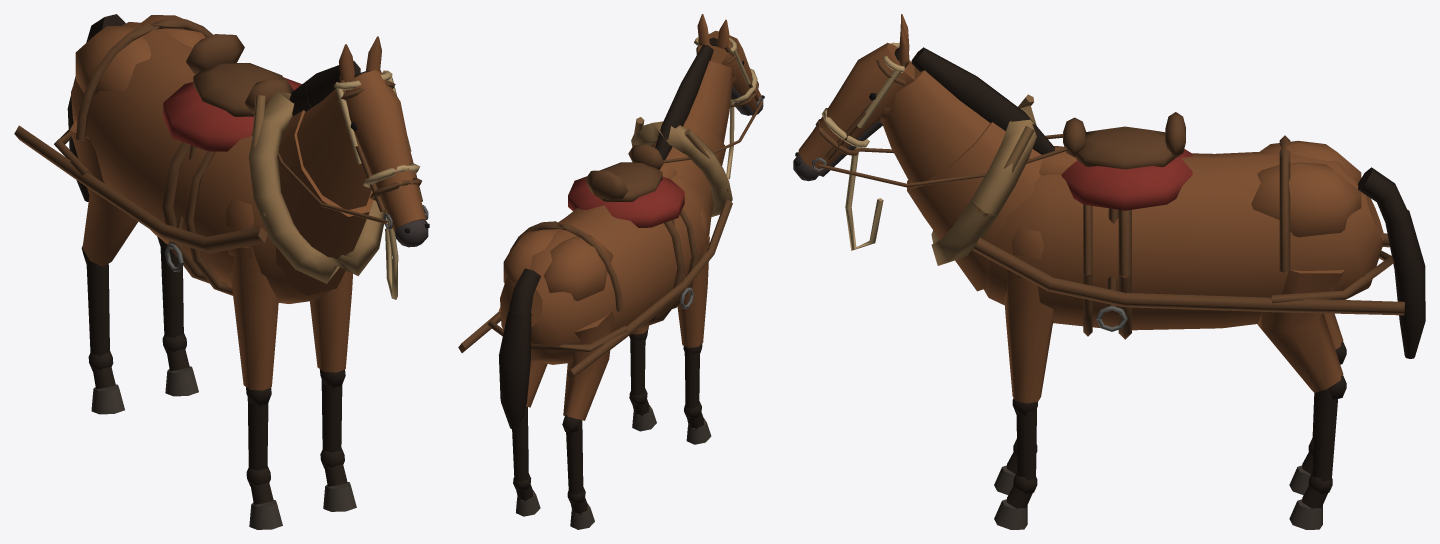
File: animal_horse.glb
3 views of the same model, side by side, from view 1: azimuth 30°, elevation 25°; view 2: azimuth 150°, elevation 25°; view 3: azimuth 270°, elevation 25° (orthographic). The views are drawn at different scales.
Parts seen in each view (by area): view 1: body, saddle, harness, collar, head, neck, neck2, legU_FR, legU_BR, legU_FL, legL_BR, legL_BL (+10 smaller); view 2: body, saddle, harness, neck2, tail2, collar, legU_BR, neck, legU_FR, head, legL_BR, legL_BL (+10 smaller); view 3: body, saddle, harness, neck2, neck, legU_BL, collar, head, legU_FL, tail2, legL_BL, legL_FL (+7 smaller).
Boxes of the visible parts, x1,y1,x2,y2 form: body: (71,15,345,303); saddle: (163,34,301,295); harness: (14,18,267,283); collar: (249,91,385,283); head: (345,70,429,247); neck: (275,82,373,295); neck2: (297,60,371,209); legU_FR: (230,246,278,390); legU_BR: (70,120,138,266); legU_FL: (310,270,352,372); legL_BR: (81,245,109,356); legL_BL: (157,236,183,338); body: (500,163,711,364); saddle: (568,144,697,308); harness: (458,199,732,379); neck2: (668,44,732,143); tail2: (498,309,531,429); collar: (631,117,732,217); legU_BR: (563,311,614,420); neck: (652,101,725,217); legU_FR: (677,235,709,347); head: (698,30,764,115); legL_BR: (562,415,583,494); legL_BL: (512,406,528,481); body: (984,140,1384,330); saddle: (1061,112,1192,336); harness: (972,135,1404,339); neck2: (881,47,1009,183); neck: (907,96,1054,291); legU_BL: (1257,270,1344,392); collar: (931,94,1036,265); head: (793,42,914,181); legU_FL: (1004,269,1053,403); tail2: (1385,209,1425,358); legL_BL: (1312,375,1346,481); legL_FL: (1012,398,1037,480).
Bounding box in the file's own units: 0.664 × 2.02 × 2.38.
